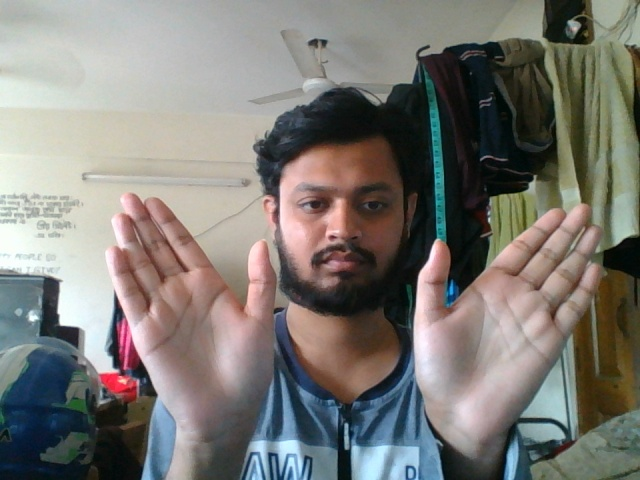naa: (104, 189, 603, 480)
